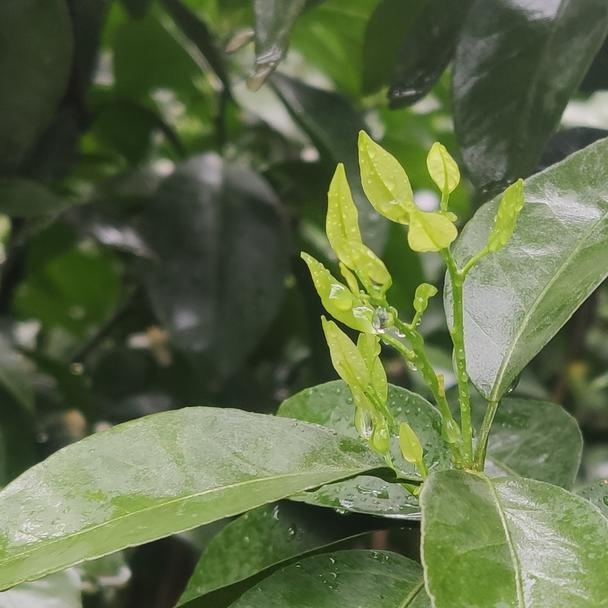shoot: (369, 135, 525, 347), (304, 197, 418, 345), (318, 322, 408, 423)
